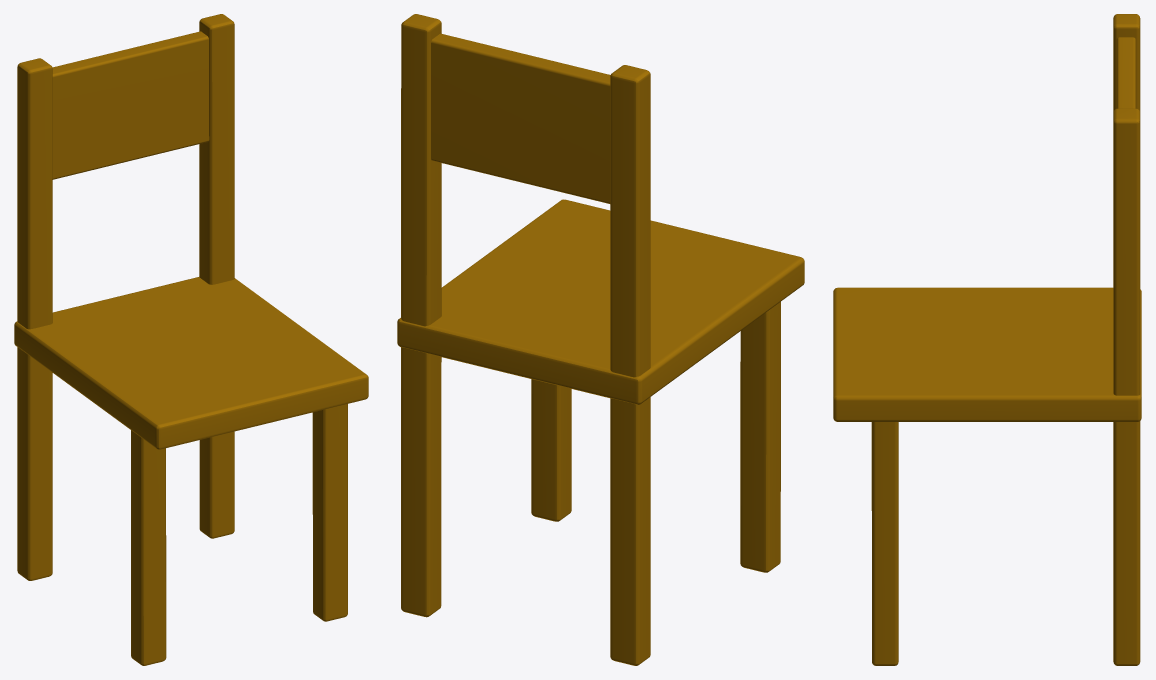
Rendered from chair.fbx.
The picture shows the model from 3 angles, left to right: view 1: azimuth 30°, elevation 25°; view 2: azimuth 150°, elevation 25°; view 3: azimuth 270°, elevation 25°; orthographic projection. The views are drawn at different scales.
Parts seen in each view (by area): view 1: pasted__pCube5, pCube5, pCube4, pasted__pCube4, pasted__pCube6, pasted__pasted__pCube4; view 2: pasted__pCube5, pCube5, pCube4, pasted__pCube4, pasted__pCube6, pasted__pasted__pCube4; view 3: pasted__pCube5, pasted__pCube4, pasted__pasted__pCube4, pCube5, pCube4.
Part boxes in pixels (box(x1,y1,x2,y2)): pasted__pCube5: box(14, 277, 368, 449); pCube5: box(52, 31, 209, 179); pCube4: box(17, 58, 52, 580); pasted__pCube4: box(199, 14, 234, 538); pasted__pCube6: box(131, 430, 166, 665); pasted__pasted__pCube4: box(312, 404, 347, 621); pasted__pCube5: box(397, 199, 804, 404); pCube5: box(431, 33, 610, 203); pCube4: box(610, 65, 650, 665); pasted__pCube4: box(401, 14, 441, 617); pasted__pCube6: box(740, 302, 780, 572); pasted__pasted__pCube4: box(531, 379, 571, 521); pasted__pCube5: box(833, 287, 1141, 421); pasted__pCube4: box(1113, 108, 1140, 665); pasted__pasted__pCube4: box(871, 422, 898, 665); pCube5: box(1116, 37, 1135, 108); pCube4: box(1113, 14, 1140, 111).
Size of the model in its own units: 0.8347 by 1.92 by 0.984.
